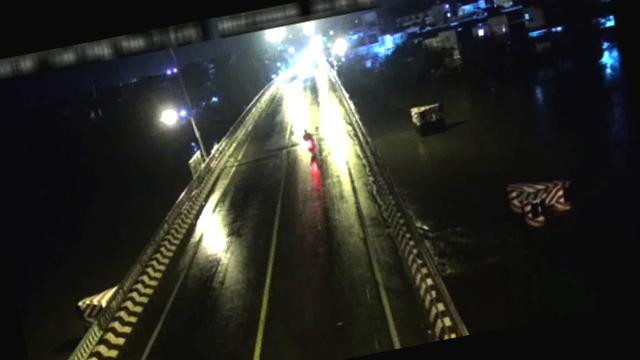Bike: (300, 126, 319, 157)
